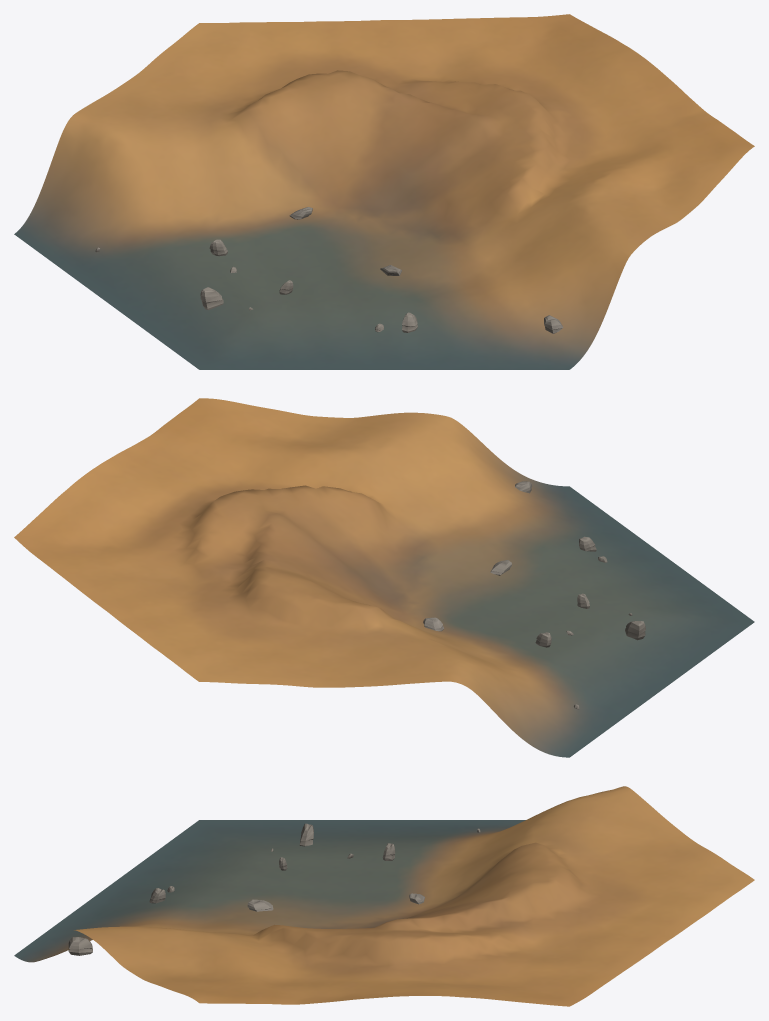
File: costa_-05_+04.glb
The picture shows the model from 3 angles, top to bottom: view 1: azimuth 30°, elevation 25°; view 2: azimuth 150°, elevation 25°; view 3: azimuth 270°, elevation 25°; orthographic projection.
Parts seen in each view (by area): view 1: terrain, Formações costeiras; view 2: terrain, Formações costeiras; view 3: terrain, Formações costeiras.
Boxes of the visible parts, bbox=[...] form: terrain: bbox=[14, 14, 754, 369]; Formações costeiras: bbox=[95, 207, 563, 333]; terrain: bbox=[14, 398, 754, 757]; Formações costeiras: bbox=[423, 481, 645, 709]; terrain: bbox=[14, 786, 754, 1006]; Formações costeiras: bbox=[68, 823, 480, 955].
Bounding box in the file's own units: 4330 × 710 × 5000.
1 material, 1 textured.
